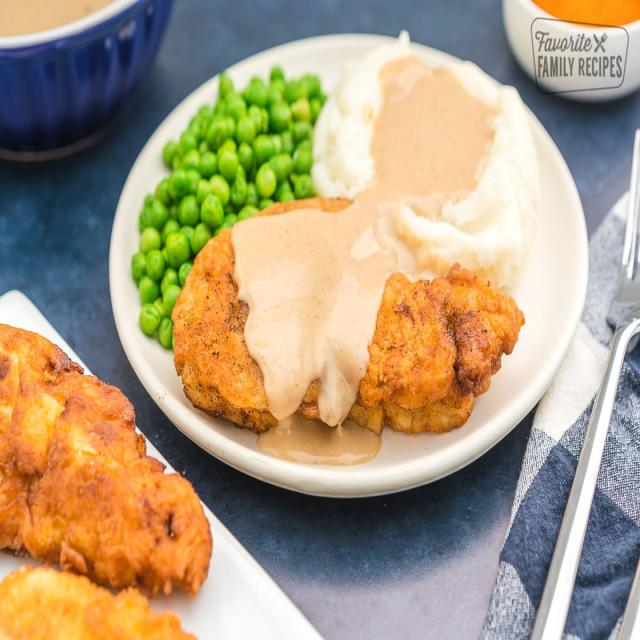Frango: (169, 190, 525, 445), (0, 319, 213, 594)
